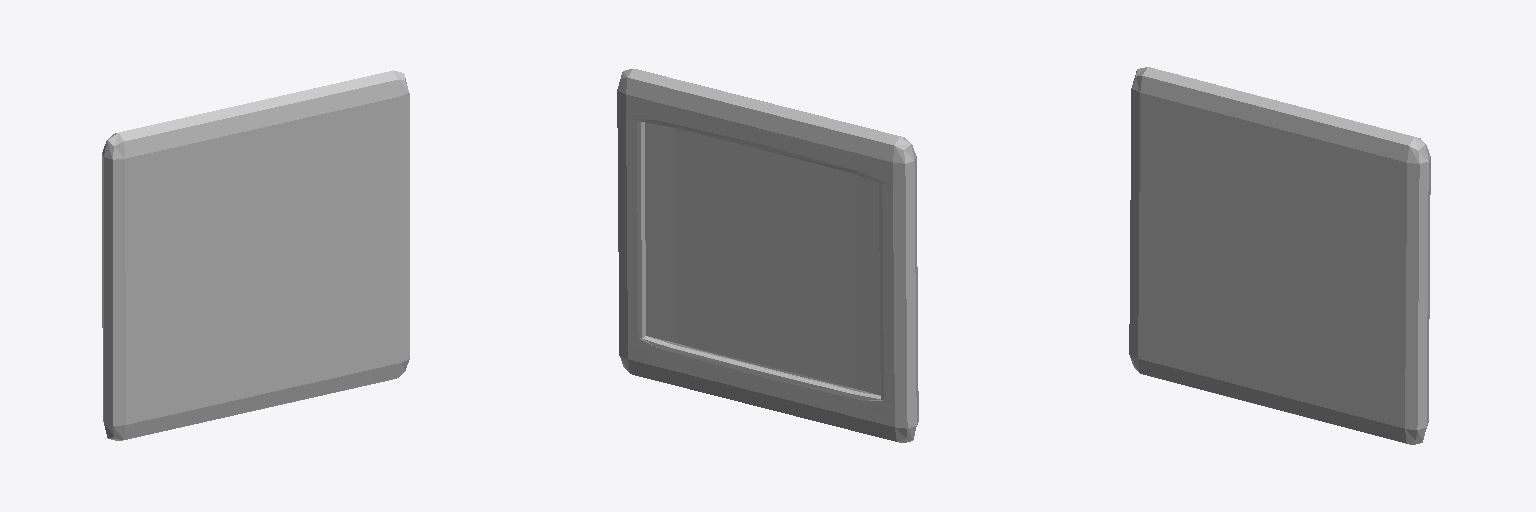
File: painting2.obj
3 renders of one model, left to right at view 1: azimuth 30°, elevation 25°; view 2: azimuth 150°, elevation 25°; view 3: azimuth 330°, elevation 25°, orthographic.
Parts seen in each view (by area): view 1: pCube79; view 2: pCube79; view 3: pCube79.
Part boxes in pixels (x1,y1,x2,y2): pCube79: (102,70,409,440); pCube79: (617,69,918,442); pCube79: (1129,67,1430,444).
Bounding box in the file's own units: 20.45 × 20.07 × 2.29.